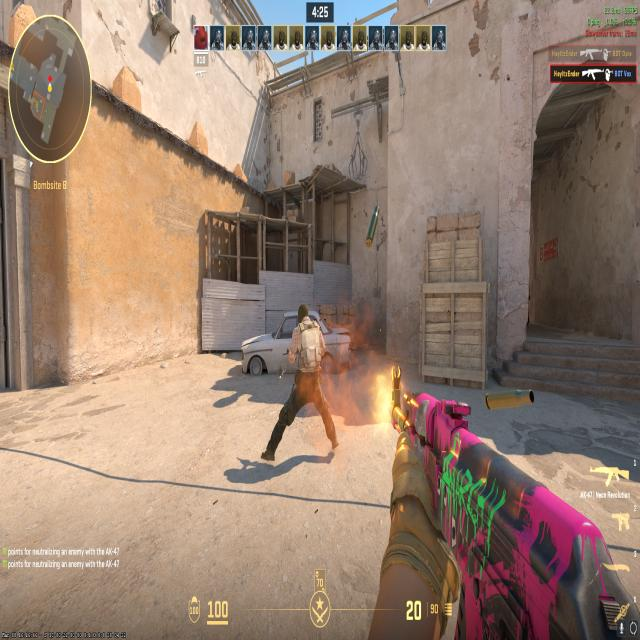t: (265, 303, 345, 460)
